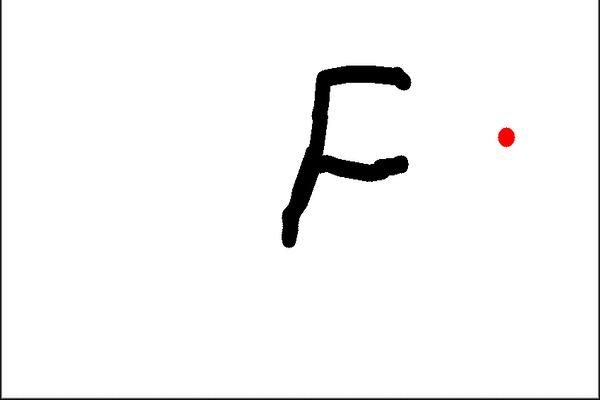F: (276, 61, 412, 251)
